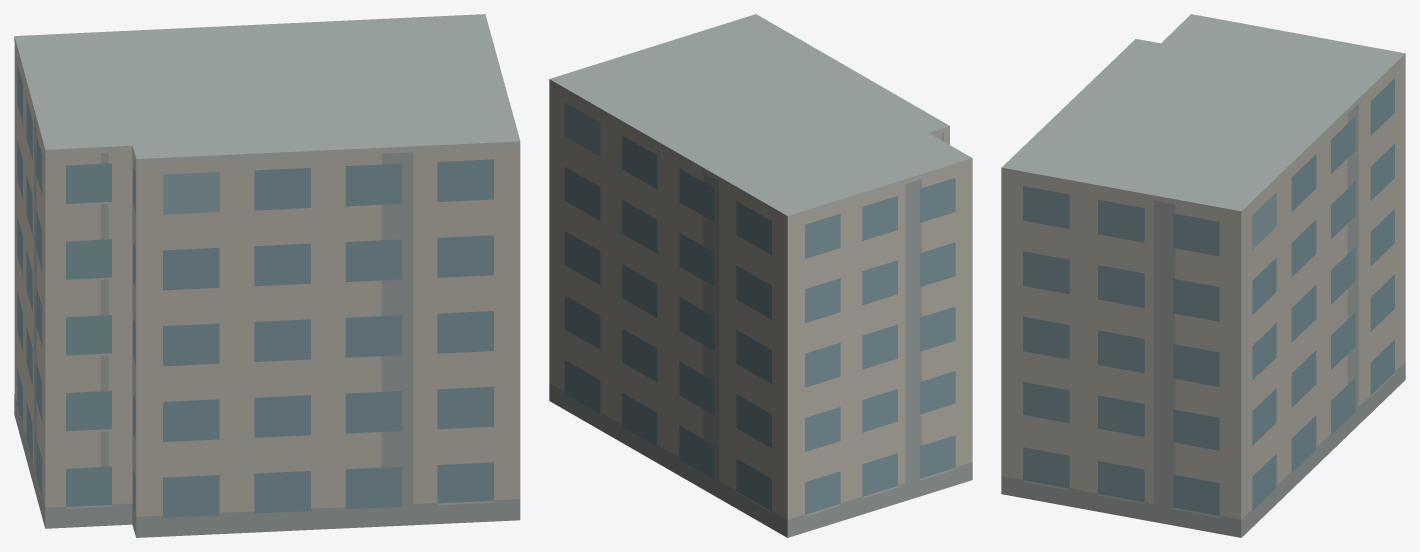
The model's file is survey-upis-32532133.glb.
3 views of the same model, side by side, from view 1: azimuth 30°, elevation 25°; view 2: azimuth 150°, elevation 25°; view 3: azimuth 270°, elevation 25° (orthographic). The views are drawn at different scales.
Visible parts, largest first — view 1: survey-upis-32532133.tmp; view 2: survey-upis-32532133.tmp; view 3: survey-upis-32532133.tmp.
Part boxes in pixels (x1,y1,x2,y2): survey-upis-32532133.tmp: (14, 14, 520, 537); survey-upis-32532133.tmp: (549, 14, 972, 537); survey-upis-32532133.tmp: (1001, 14, 1405, 537).
Bounding box in the file's own units: 20.49 × 15.8 × 17.73.
